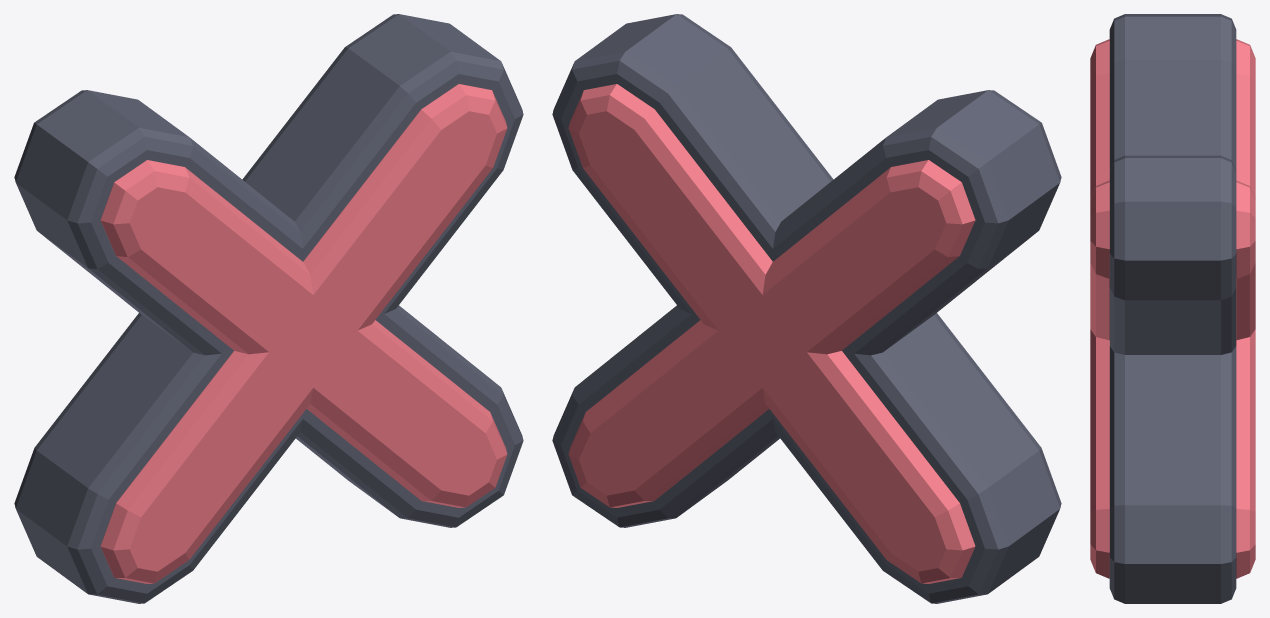
The model's file is game-ui-icon-library-cross-mark-2fbd3130__19052.glb.
3 views of the same model, side by side, from view 1: azimuth 30°, elevation 25°; view 2: azimuth 150°, elevation 25°; view 3: azimuth 270°, elevation 25° (orthographic). The views are drawn at different scales.
Visible parts, largest first — view 1: cross-mark; view 2: cross-mark; view 3: cross-mark.
Boxes of the visible parts, bbox=[...] form: cross-mark: bbox=[14, 14, 523, 603]; cross-mark: bbox=[552, 14, 1061, 603]; cross-mark: bbox=[1090, 14, 1255, 603].
Bounding box in the file's own units: 0.94 × 0.94 × 0.3175.
